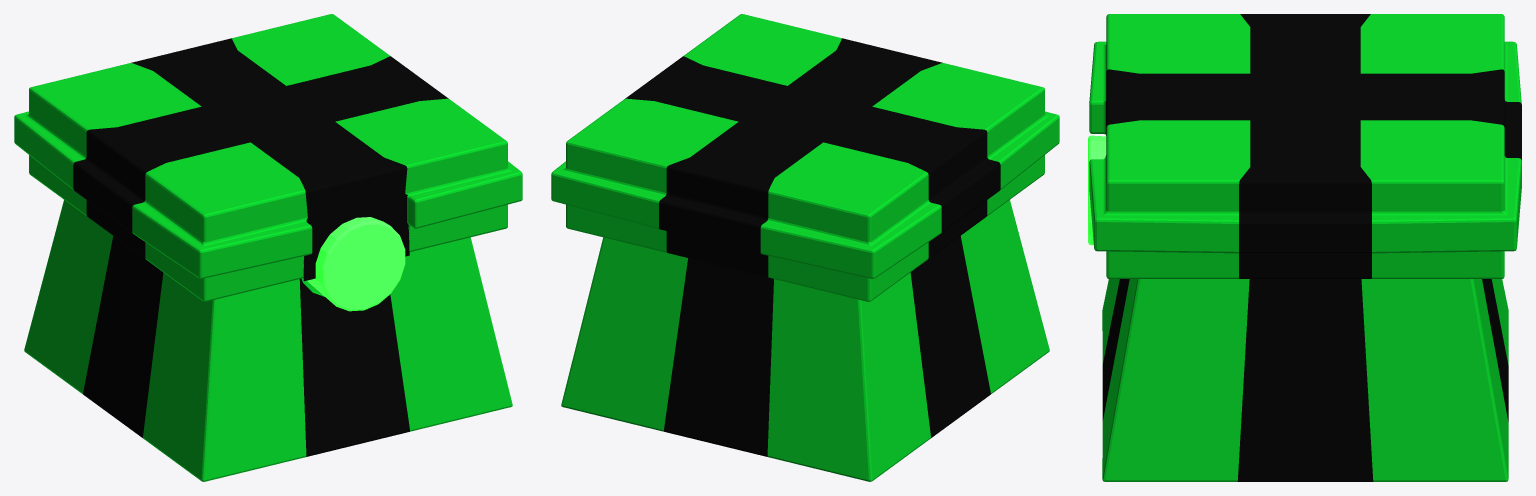
The model's file is Standard.fbx.
The picture shows the model from 3 angles, left to right: view 1: azimuth 30°, elevation 25°; view 2: azimuth 150°, elevation 25°; view 3: azimuth 270°, elevation 25°; orthographic projection. The views are drawn at different scales.
Visible parts, largest first — view 1: Standard; view 2: Standard; view 3: Standard.
Boxes of the visible parts, <box> form: Standard: <box>14,14,522,481</box>; Standard: <box>551,14,1059,481</box>; Standard: <box>1088,14,1521,481</box>.
Size of the model in its own units: 90.14 by 68.99 by 90.36.
